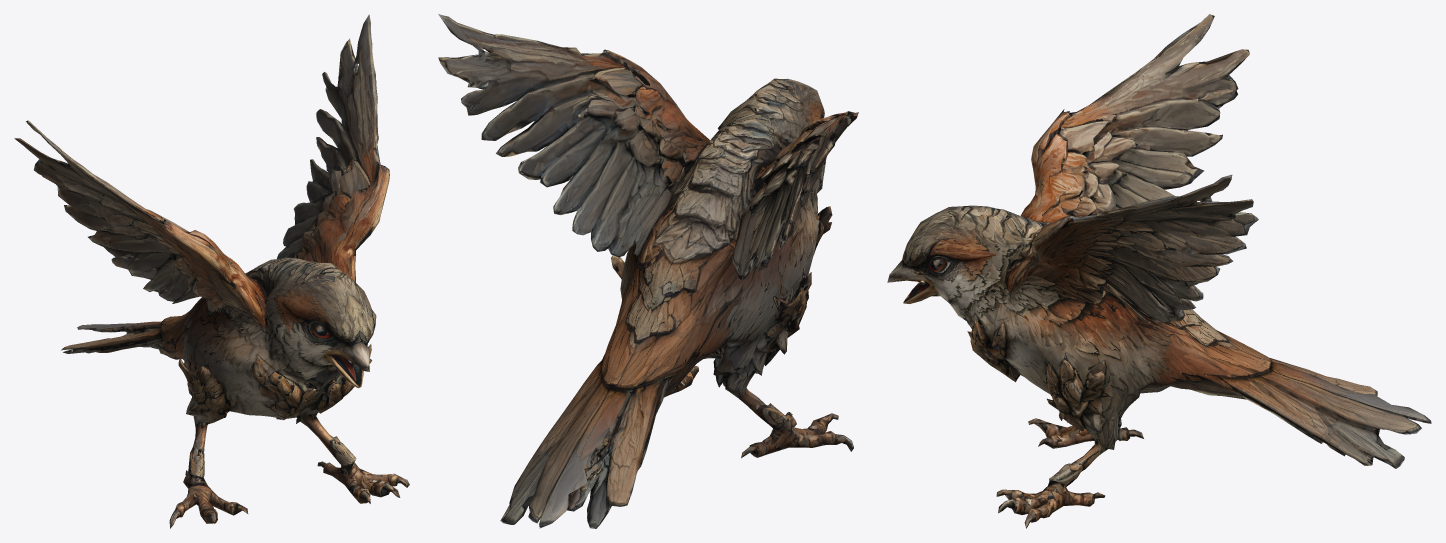
File: Sparrow.fbx
3 renders of one model, left to right at view 1: azimuth 30°, elevation 25°; view 2: azimuth 150°, elevation 25°; view 3: azimuth 270°, elevation 25°, orthographic. The views are drawn at different scales.
Visible parts, largest first — view 1: texture_mapping; view 2: texture_mapping; view 3: texture_mapping.
Boxes of the visible parts, <box> form: texture_mapping: <box>14,14,409,528</box>; texture_mapping: <box>438,14,858,528</box>; texture_mapping: <box>887,14,1431,528</box>.
Size of the model in its own units: 0.752 by 0.9984 by 0.7844.
Materials: 1 (1 with a texture image).
